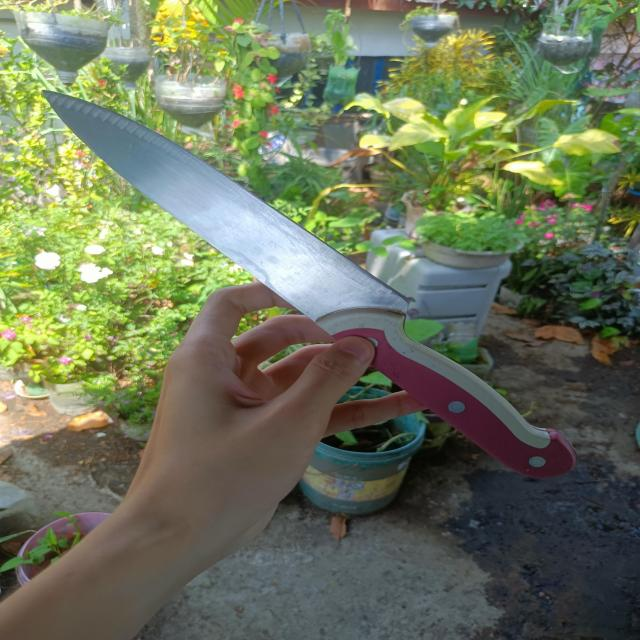knife: (42, 90, 575, 480)
